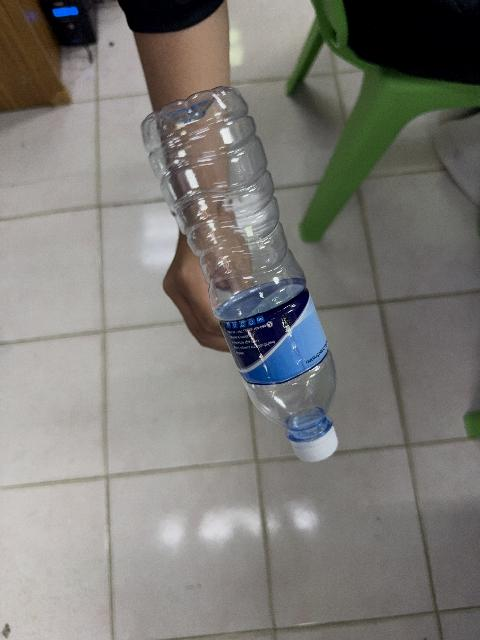bottle: (142, 87, 337, 460)
